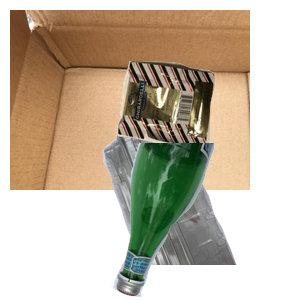cardboard: (10, 10, 250, 190)
glass: (109, 143, 300, 300)
plastic: (55, 120, 284, 300)
trash: (115, 58, 300, 200)
